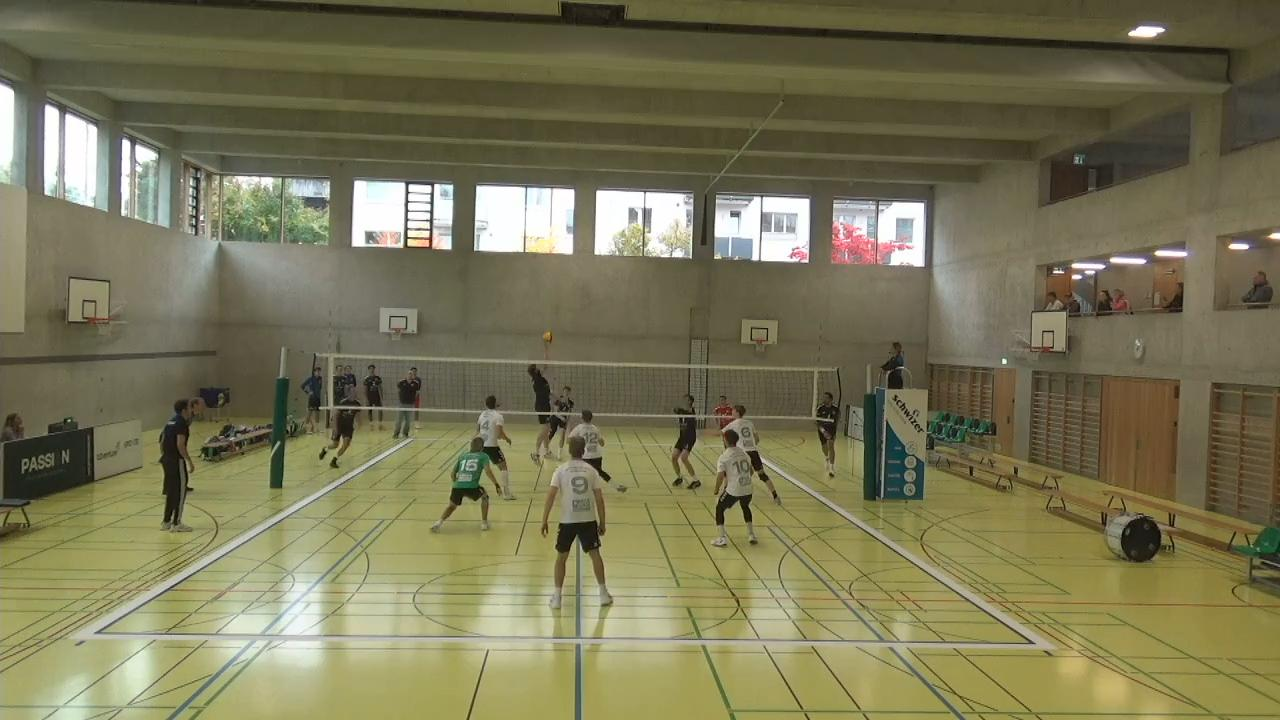Player: (546, 434, 615, 607), (431, 433, 501, 537), (707, 426, 757, 548), (308, 381, 369, 473), (736, 410, 782, 502), (573, 410, 623, 493), (478, 395, 517, 498), (668, 395, 698, 489), (813, 389, 843, 478), (552, 385, 579, 461), (709, 394, 736, 444)
Set: (522, 337, 555, 468)
ball: (541, 328, 556, 344)
